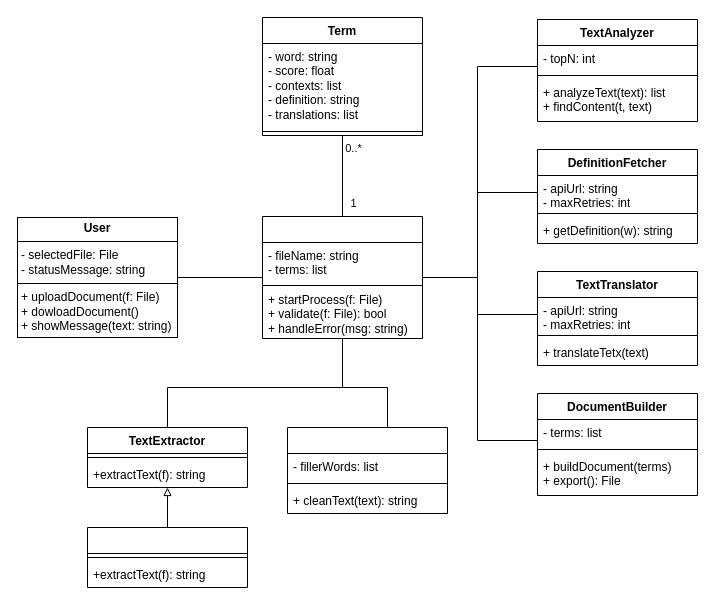
Image size: 715x608. Some labels were removed from this diagram. The box of each missing label's shape, as (x1, y1, x2, y2) in pixels:
PDFExtractor: (86, 526, 248, 588)
ProcessManager: (262, 216, 422, 338)
TextProcessor: (286, 426, 448, 514)
